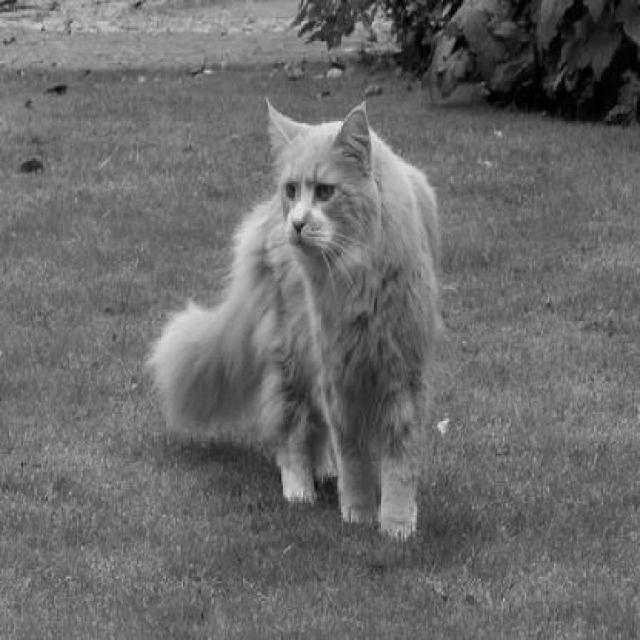Cat: (152, 98, 440, 540)
